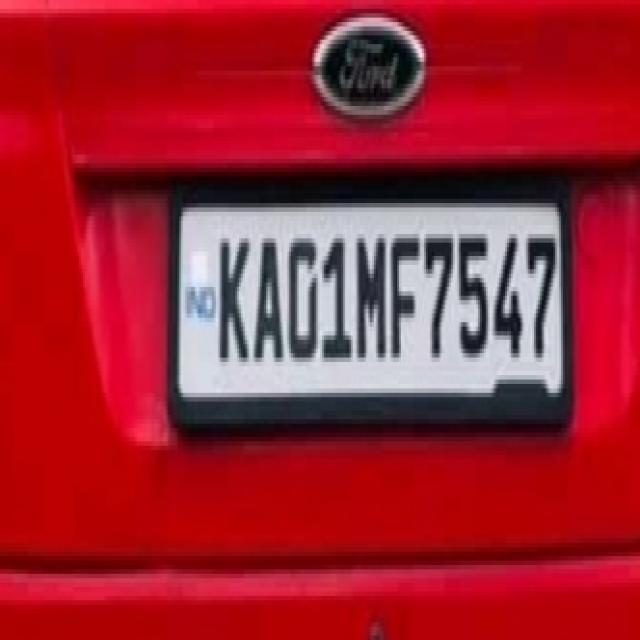0: (285, 228, 321, 367)
1: (321, 233, 356, 362)
4: (492, 225, 530, 368)
5: (458, 224, 494, 364)
7: (422, 226, 455, 364), (525, 227, 556, 367)
A: (253, 228, 286, 368)
F: (388, 225, 423, 361)
K: (215, 228, 252, 366)
M: (354, 232, 388, 364)
